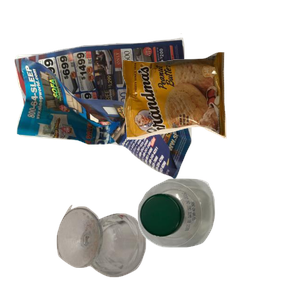glass: (54, 202, 193, 300)
paper: (12, 31, 196, 204)
plastic: (135, 176, 300, 300)
trash: (120, 50, 300, 182)
